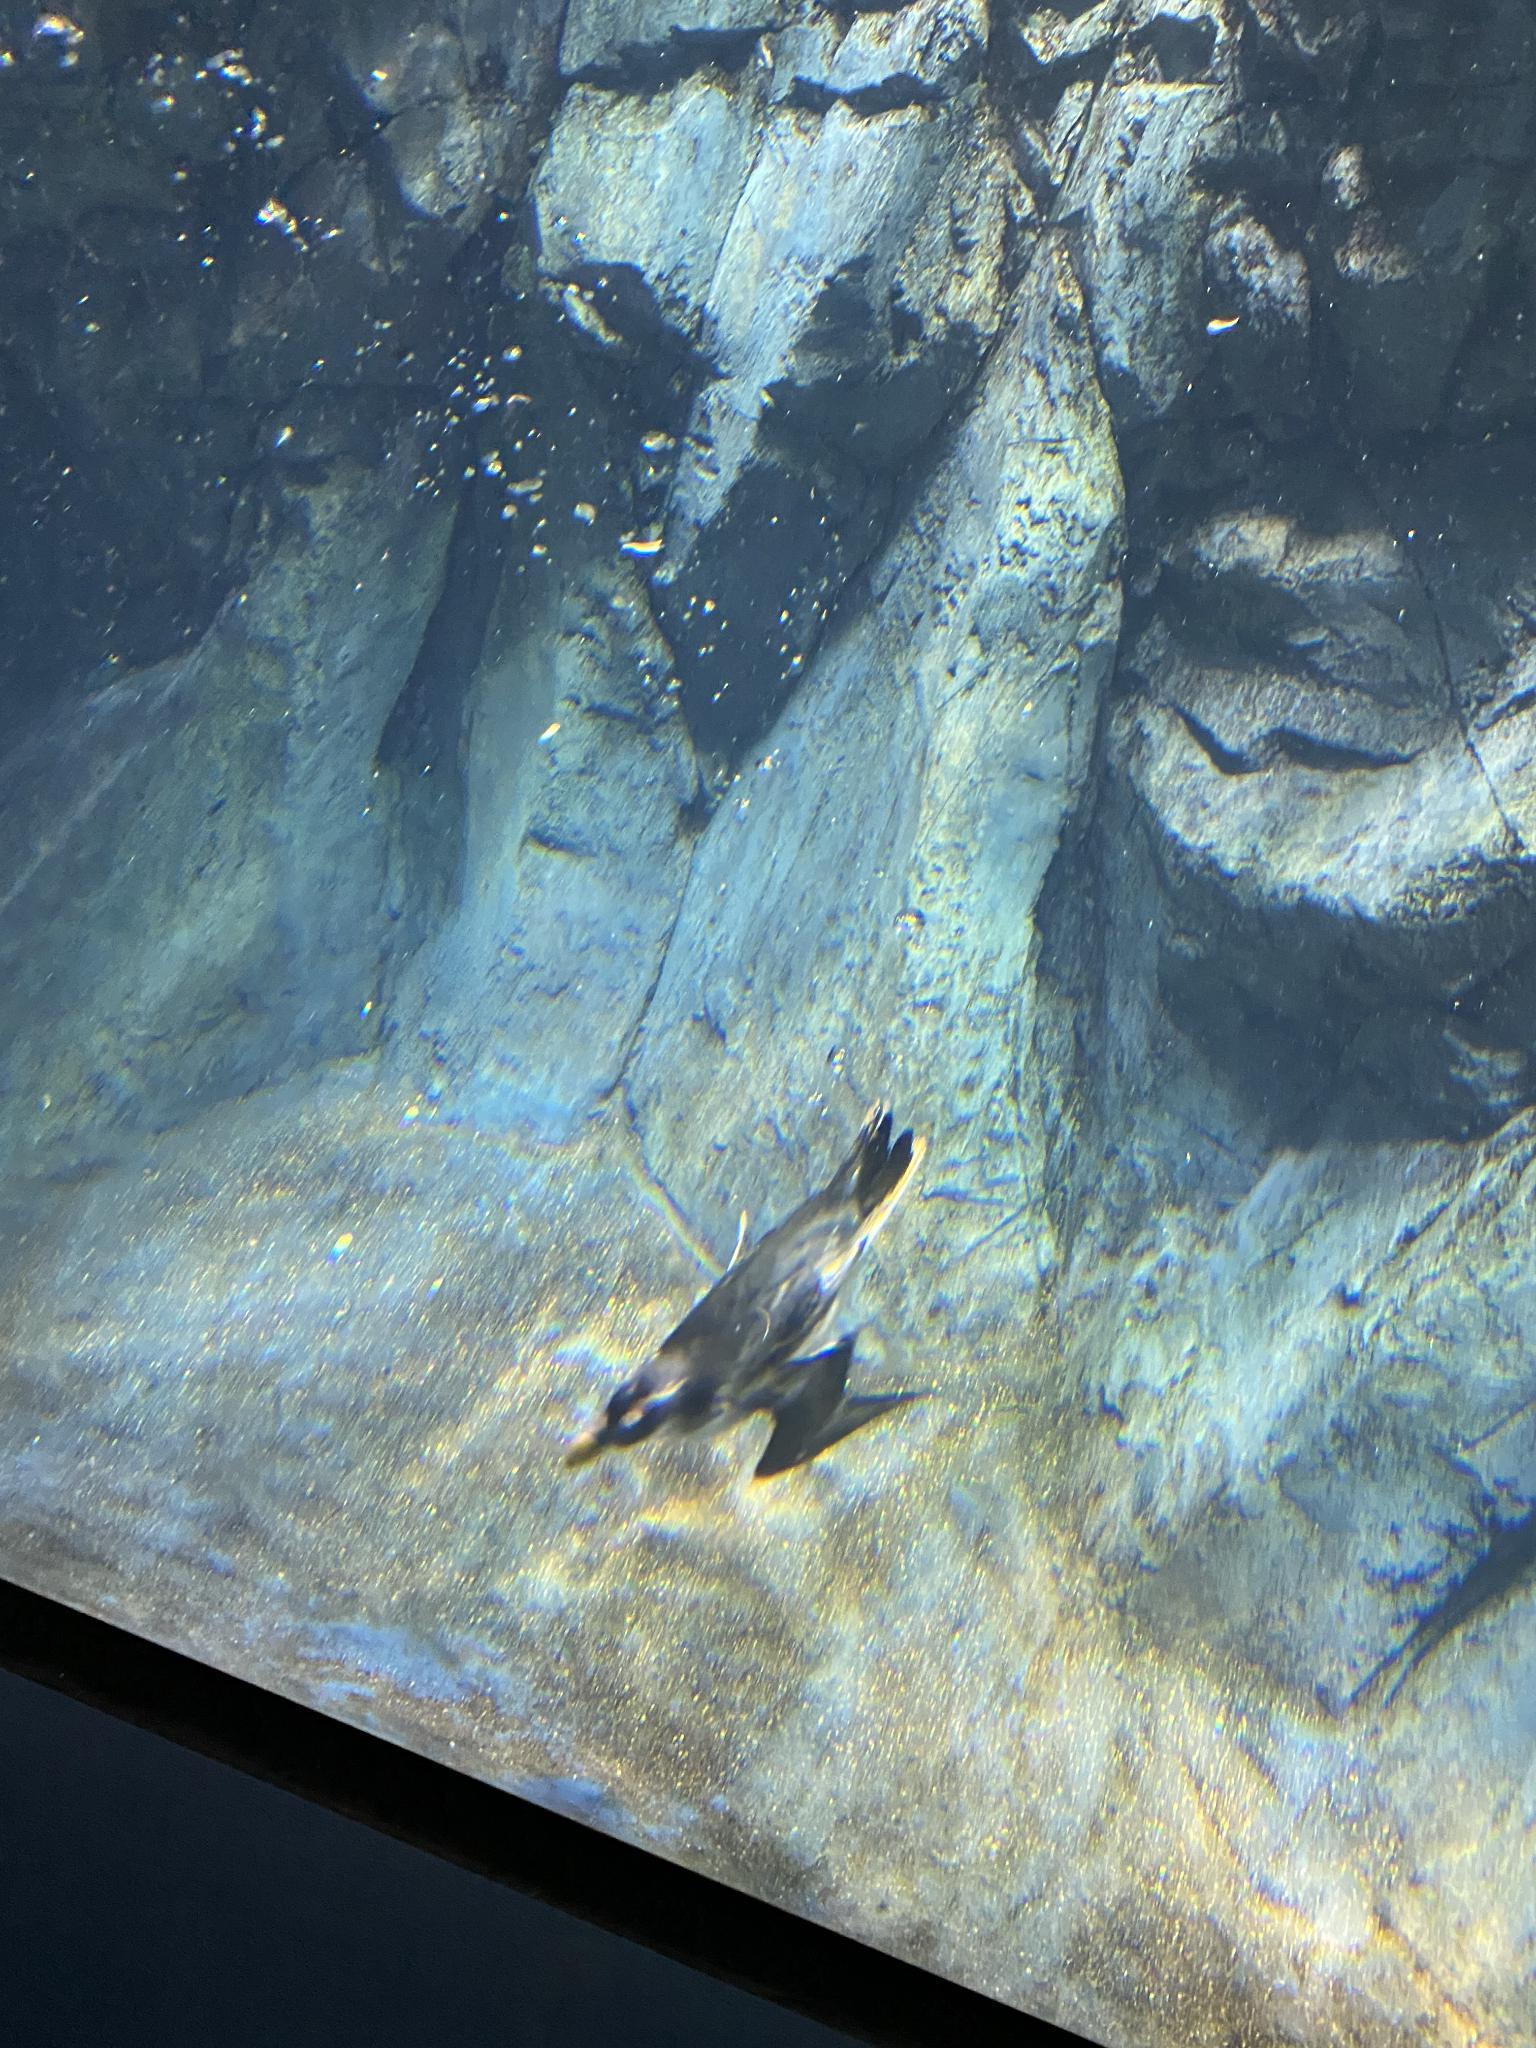puffin: (557, 1095, 929, 1485)
